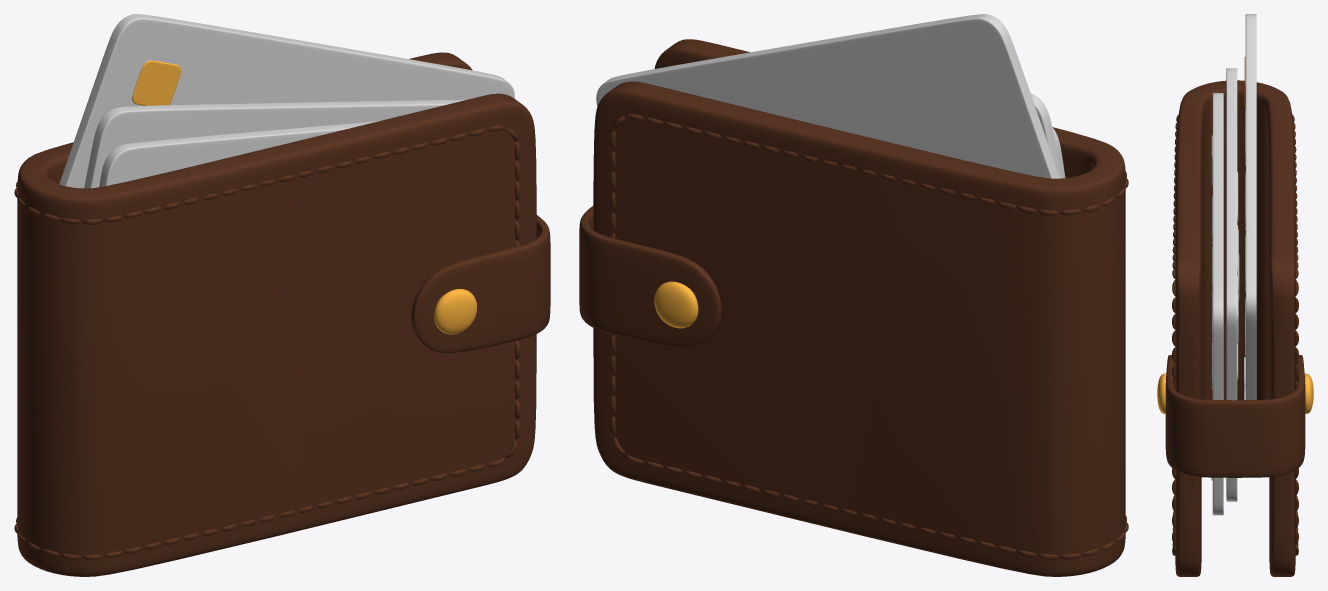
The model's file is wallet.glb.
The picture shows the model from 3 angles, left to right: view 1: azimuth 30°, elevation 25°; view 2: azimuth 150°, elevation 25°; view 3: azimuth 270°, elevation 25°; orthographic projection. The views are drawn at different scales.
Parts seen in each view (by area): view 1: Button, Card.002; view 2: Button, Card.002; view 3: Button, Card.002.
Boxes of the visible parts, x1,y1,x2,y2 form: Button: [14, 52, 550, 576]; Card.002: [59, 14, 514, 188]; Button: [579, 39, 1128, 576]; Card.002: [596, 14, 1065, 178]; Button: [1157, 80, 1313, 576]; Card.002: [1211, 14, 1256, 515].
Bounding box in the file's own units: 1.92 × 1.87 × 0.6201.
